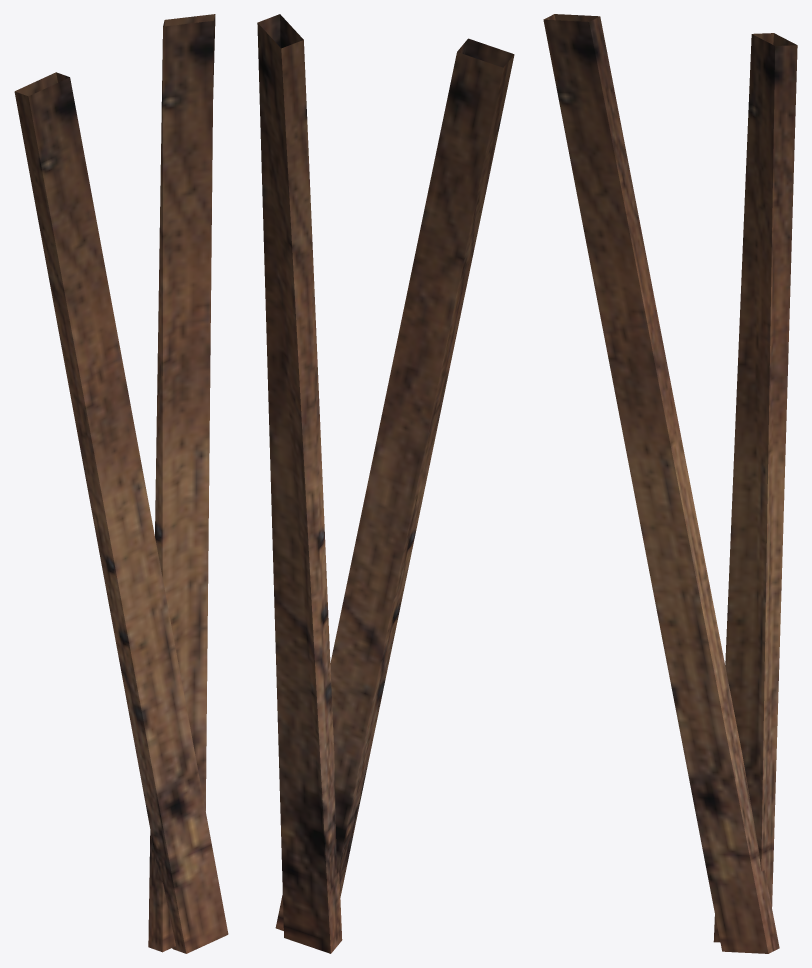
Rendered from TelegraphPoleB.FBX.
3 views of the same model, side by side, from view 1: azimuth 30°, elevation 25°; view 2: azimuth 150°, elevation 25°; view 3: azimuth 330°, elevation 25° (orthographic).
Visible parts, largest first — view 1: TelegraphPoleB; view 2: TelegraphPoleB; view 3: TelegraphPoleB.
Boxes of the visible parts, x1,y1,x2,y2 form: TelegraphPoleB: (14,14,228,953); TelegraphPoleB: (257,14,514,953); TelegraphPoleB: (543,14,797,953).
Size of the model in its own units: 62.97 by 248 by 23.58.
1 material, 1 textured.
